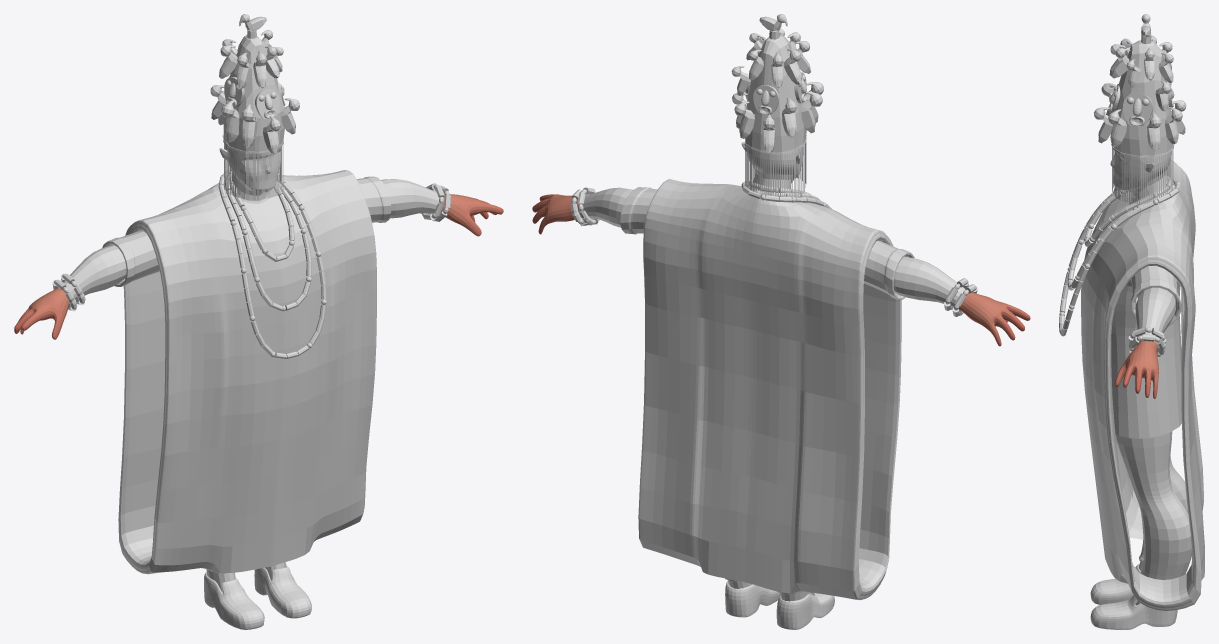
The model's file is Final_King_B.fbx.
3 views of the same model, side by side, from view 1: azimuth 30°, elevation 25°; view 2: azimuth 150°, elevation 25°; view 3: azimuth 270°, elevation 25° (orthographic).
Parts seen in each view (by area): view 1: Torso_Highpoly; view 2: Torso_Highpoly; view 3: Torso_Highpoly.
Boxes of the visible parts, box(x1,y1,x2,y2) form: Torso_Highpoly: box(14, 14, 503, 629); Torso_Highpoly: box(532, 14, 1030, 629); Torso_Highpoly: box(1059, 14, 1204, 629).
Size of the model in its own units: 1449 by 1692 by 377.
